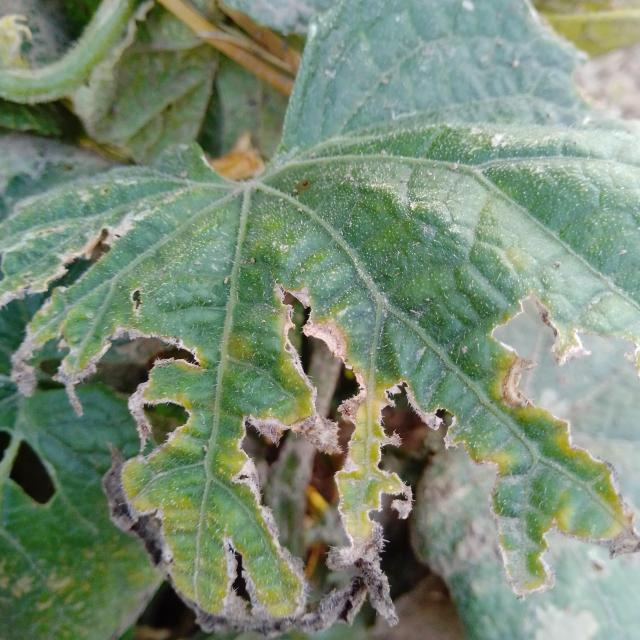cucumber_anthracnose: (22, 161, 619, 577)
